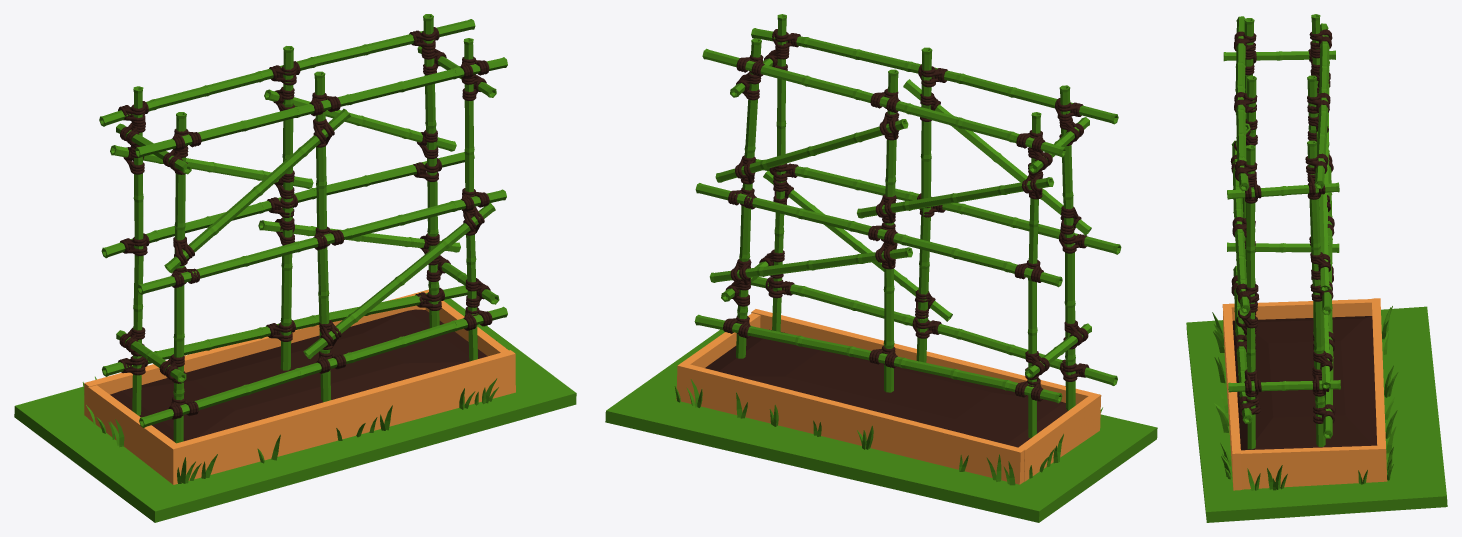
The picture shows the model from 3 angles, left to right: view 1: azimuth 30°, elevation 25°; view 2: azimuth 150°, elevation 25°; view 3: azimuth 270°, elevation 25°; orthographic projection. The views are drawn at different scales.
Parts seen in each view (by area): view 1: group1288712651, group356612685, group1572893599, group1172953821, group1967808197, group823337145, group1433664718, group1647325469, group505902708, group1630393322; view 2: group1288712651, group356612685, group1172953821, group1572893599, group1967808197, group1630393322, group1647325469, group505902708, group823337145, group1433664718; view 3: group1288712651, group356612685, group1572893599, group1172953821, group1967808197, group1016361345, group1376809069, group1647325469, group1630393322, group1254156086, group1180474031, group297574909.
Boxes of the visible parts, x1,y1,x2,y2 form: group1288712651: [84, 289, 515, 484]; group356612685: [14, 290, 576, 522]; group1572893599: [135, 38, 507, 443]; group1172953821: [99, 14, 475, 415]; group1967808197: [116, 122, 191, 383]; group823337145: [164, 108, 350, 273]; group1433664718: [303, 203, 495, 359]; group1647325469: [264, 89, 456, 151]; group505902708: [110, 145, 313, 188]; group1630393322: [258, 220, 460, 252]; group1288712651: [676, 309, 1101, 484]; group356612685: [605, 329, 1157, 522]; group1172953821: [694, 38, 1066, 438]; group1572893599: [751, 14, 1121, 410]; group1967808197: [1025, 117, 1091, 379]; group1630393322: [709, 247, 912, 282]; group1647325469: [715, 119, 908, 182]; group505902708: [857, 177, 1053, 218]; group823337145: [903, 79, 1091, 235]; group1433664718: [763, 171, 952, 321]; group1288712651: [1222, 298, 1387, 490]; group356612685: [1186, 306, 1447, 522]; group1572893599: [1230, 16, 1260, 449]; group1172953821: [1305, 14, 1335, 446]; group1967808197: [1223, 48, 1339, 252]; group1016361345: [1227, 182, 1339, 199]; group1376809069: [1228, 380, 1340, 392]; group1647325469: [1316, 113, 1329, 291]; group1630393322: [1321, 313, 1330, 389]; group1254156086: [1244, 369, 1261, 396]; group1180474031: [1310, 252, 1331, 279]; group297574909: [1312, 351, 1332, 378].
Size of the model in its own units: 6.32 by 5.14 by 3.51.
